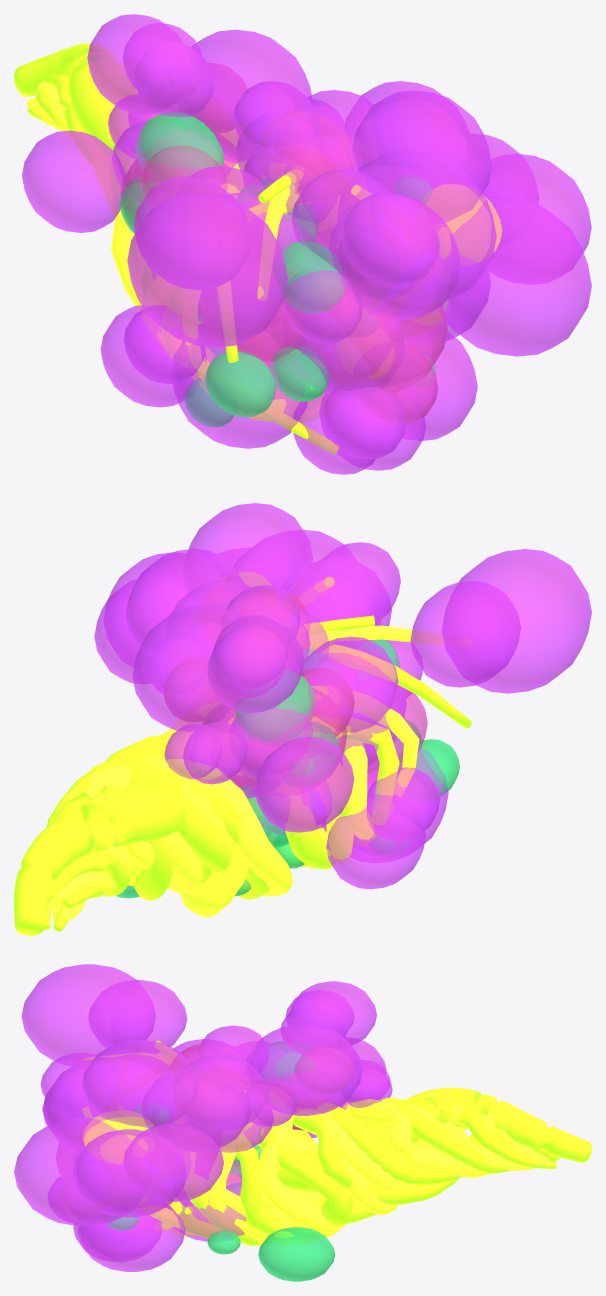
File: gif-effect.glb
The picture shows the model from 3 angles, top to bottom: view 1: azimuth 30°, elevation 25°; view 2: azimuth 150°, elevation 25°; view 3: azimuth 270°, elevation 25°; orthographic projection. The views are drawn at different scales.
Parts seen in each view (by area): view 1: Poison / soft violet cloud 01, Poison / soft violet cloud 48, Poison / soft violet cloud 04, Poison / soft violet cloud 09, Poison / soft violet cloud 28, Poison / soft violet cloud 14, Poison / soft violet cloud 22, Poison / soft violet cloud 03, Poison / soft violet cloud 17, Poison / soft violet cloud 00, Poison / soft violet cloud 33, Poison / soft violet cloud 16 (+54 smaller); view 2: Poison / soft violet cloud 01, Poison / glowing fountain, Poison / soft violet cloud 22, Poison / soft violet cloud 03, Poison / soft violet cloud 09, Poison / soft violet cloud 16, Poison / soft violet cloud 44, Poison / soft violet cloud 49, Poison / soft violet cloud 31, Poison / swirling green filament 07, Poison / soft violet cloud 04, Poison / soft violet cloud 26 (+41 smaller); view 3: Poison / soft violet cloud 48, Poison / soft violet cloud 01, Poison / soft violet cloud 03, Poison / soft violet cloud 09, Poison / soft violet cloud 14, Poison / soft violet cloud 26, Poison / soft violet cloud 04, Poison / soft violet cloud 32, Poison / soft violet cloud 22, Poison / glowing fountain, Poison / soft violet cloud 06, Poison / swirling green filament 08 (+33 smaller).
Part boxes in pixels (<box>): Poison / soft violet cloud 01: <box>127,193,287,347</box>; Poison / soft violet cloud 48: <box>438,196,591,356</box>; Poison / soft violet cloud 04: <box>337,150,496,303</box>; Poison / soft violet cloud 09: <box>352,90,492,221</box>; Poison / soft violet cloud 28: <box>171,322,307,448</box>; Poison / soft violet cloud 14: <box>483,153,591,284</box>; Poison / soft violet cloud 22: <box>133,176,251,289</box>; Poison / soft violet cloud 03: <box>176,29,312,162</box>; Poison / soft violet cloud 17: <box>329,195,460,320</box>; Poison / soft violet cloud 00: <box>306,290,447,393</box>; Poison / soft violet cloud 33: <box>281,296,405,398</box>; Poison / soft violet cloud 16: <box>22,130,126,232</box>; Poison / soft violet cloud 01: <box>442,549,591,693</box>; Poison / glowing fountain: <box>14,784,264,935</box>; Poison / soft violet cloud 22: <box>410,581,520,687</box>; Poison / soft violet cloud 03: <box>132,605,241,731</box>; Poison / soft violet cloud 09: <box>183,503,312,597</box>; Poison / soft violet cloud 16: <box>254,737,354,832</box>; Poison / soft violet cloud 44: <box>207,620,304,713</box>; Poison / soft violet cloud 49: <box>326,794,425,889</box>; Poison / soft violet cloud 31: <box>302,636,398,732</box>; Poison / swirling green filament 07: <box>50,625,444,922</box>; Poison / soft violet cloud 04: <box>234,530,366,621</box>; Poison / soft violet cloud 26: <box>125,549,244,657</box>; Poison / soft violet cloud 48: <box>14,1118,144,1226</box>; Poison / soft violet cloud 01: <box>21,964,155,1065</box>; Poison / soft violet cloud 03: <box>246,1024,362,1115</box>; Poison / soft violet cloud 09: <box>82,1040,197,1127</box>; Poison / soft violet cloud 14: <box>73,1129,186,1217</box>; Poison / soft violet cloud 26: <box>141,1067,251,1151</box>; Poison / soft violet cloud 04: <box>42,1057,160,1154</box>; Poison / soft violet cloud 32: <box>123,1124,223,1201</box>; Poison / soft violet cloud 22: <box>88,980,187,1053</box>; Poison / glowing fountain: <box>231,1087,591,1191</box>; Poison / soft violet cloud 06: <box>77,1204,185,1271</box>; Poison / swirling green filament 08: <box>236,1097,556,1240</box>.
Size of the model in its own units: 2.92 by 2.13 by 4.5.
